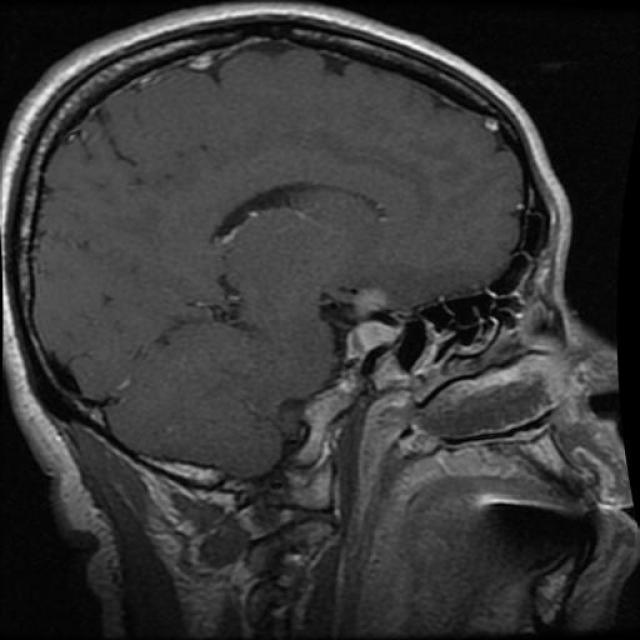pituitary: (332, 274, 414, 394)
